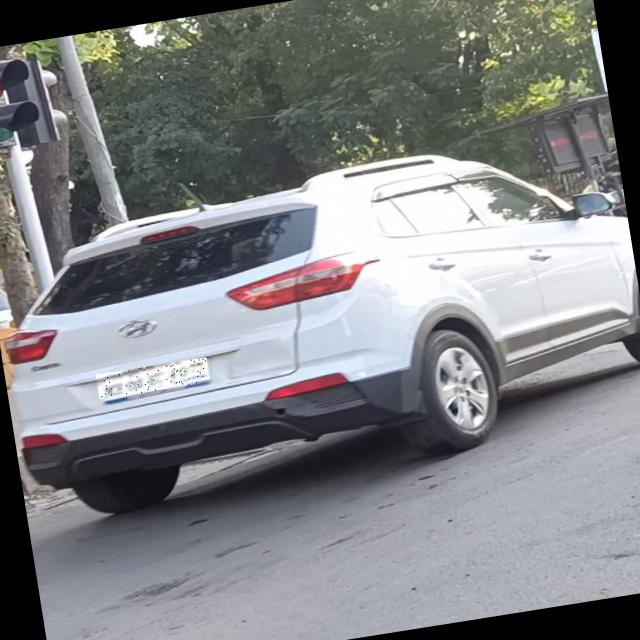Plate: (97, 359, 212, 401)
